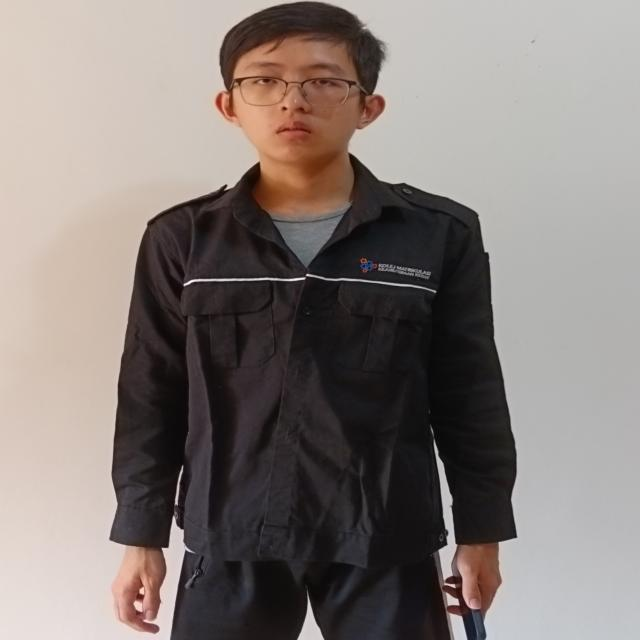person_with_labcoat: (111, 2, 516, 640)
